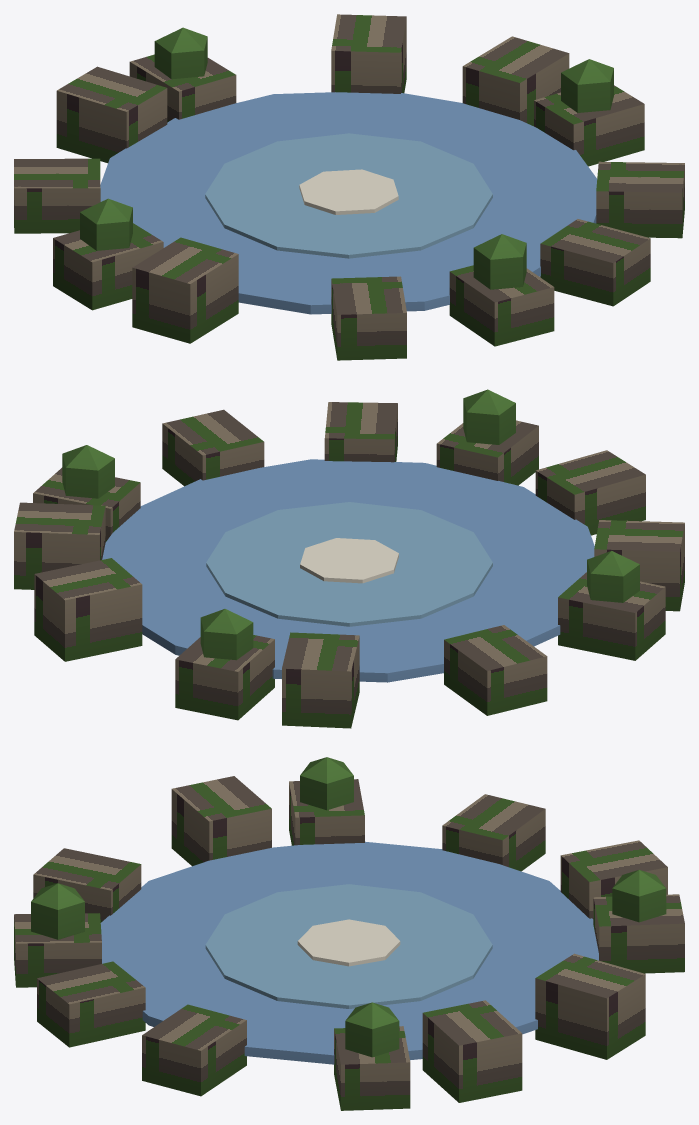
File: spring_basin.glb
The picture shows the model from 3 angles, top to bottom: view 1: azimuth 30°, elevation 25°; view 2: azimuth 150°, elevation 25°; view 3: azimuth 270°, elevation 25°; orthographic projection.
Parts seen in each view (by area): view 1: spring_basin; view 2: spring_basin; view 3: spring_basin.
Part boxes in pixels (bbox=[...]): spring_basin: bbox=[14, 14, 684, 360]; spring_basin: bbox=[14, 389, 684, 728]; spring_basin: bbox=[14, 757, 684, 1110].
Size of the model in its own units: 3.28 by 0.48 by 3.27.
3 materials, 1 textured.
